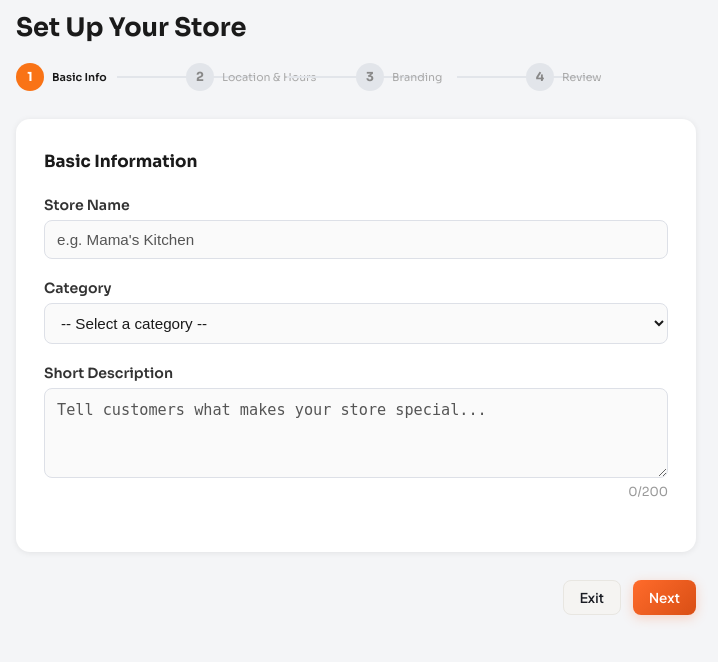
it: StoreSetup – step 0 validation › shows an error if description is empty on Next
The image size is (718, 662).
Type "My Store" into the field with placeholder "e.g. Mama's Kitchen".
click(356, 240); type("My Store")  # box top-left (44, 220), bottom-right (668, 259)
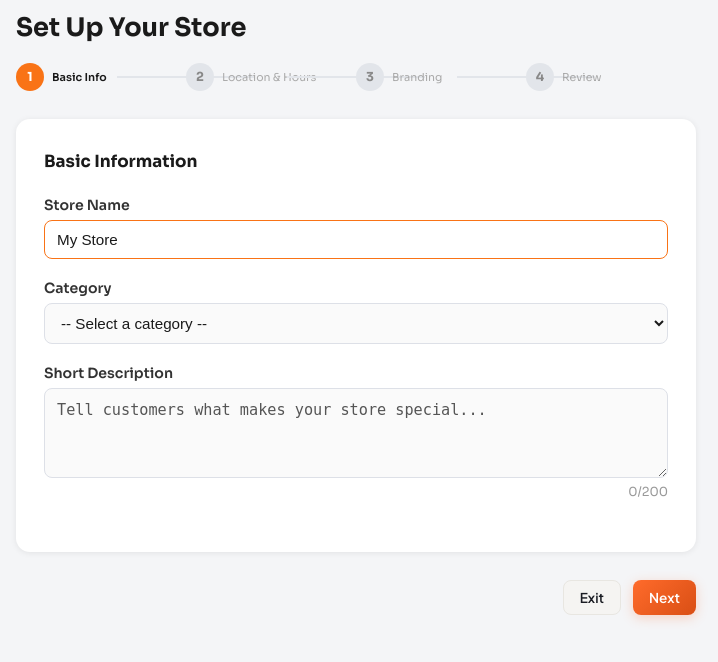
Select "Fast Food" in the dropdown at (356, 324), box top-left (44, 303), bottom-right (668, 344)
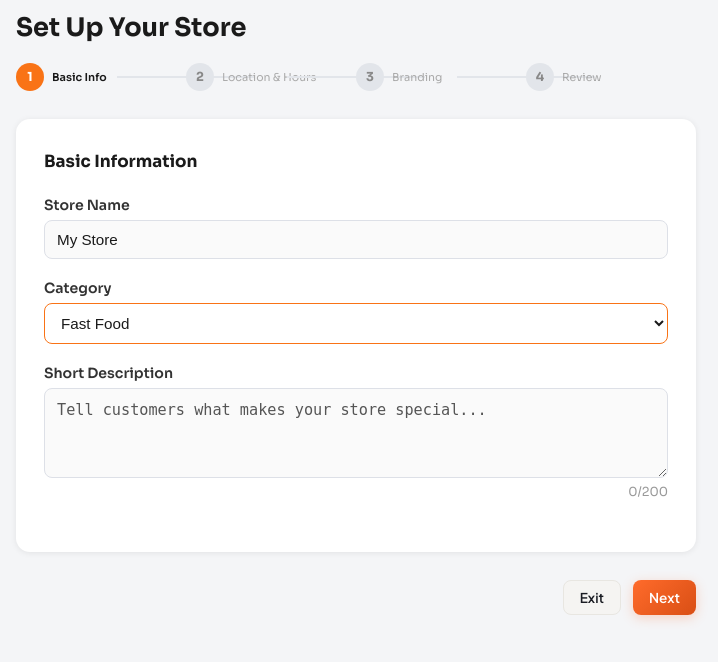
Click the button "Next".
click(664, 598)  # box top-left (633, 580), bottom-right (696, 615)
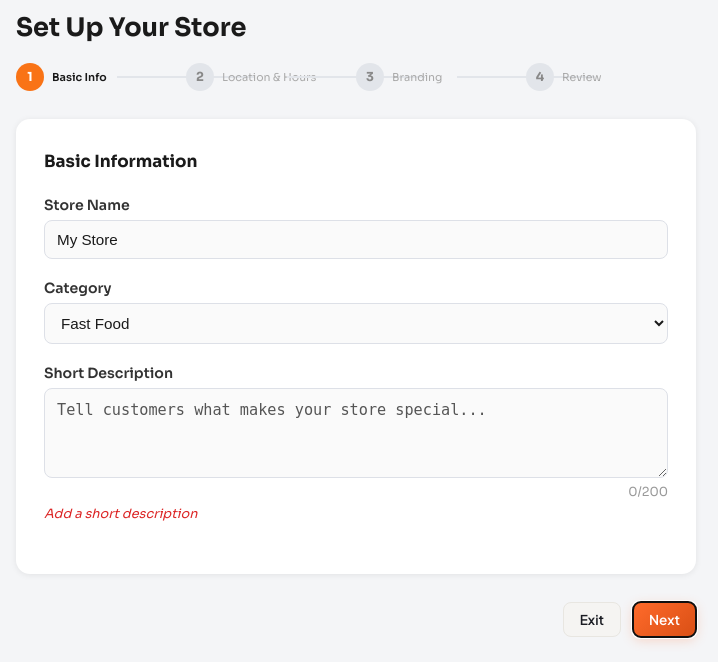
Expected: the text "Add a short description" is shown, top-left (44, 506), bottom-right (197, 522)
